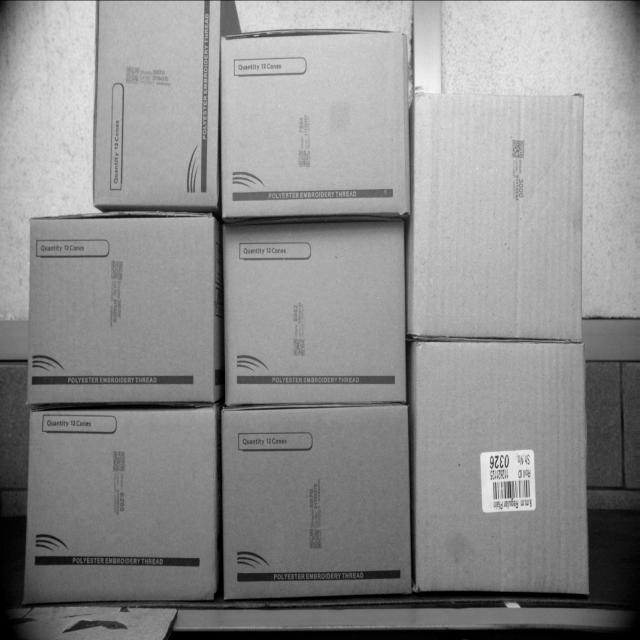cardboxes: (412, 341, 589, 589), (411, 93, 583, 332), (23, 409, 215, 601), (222, 31, 410, 219), (27, 217, 214, 403), (223, 411, 409, 591), (224, 220, 404, 398), (95, 0, 217, 209), (95, 0, 217, 208)
